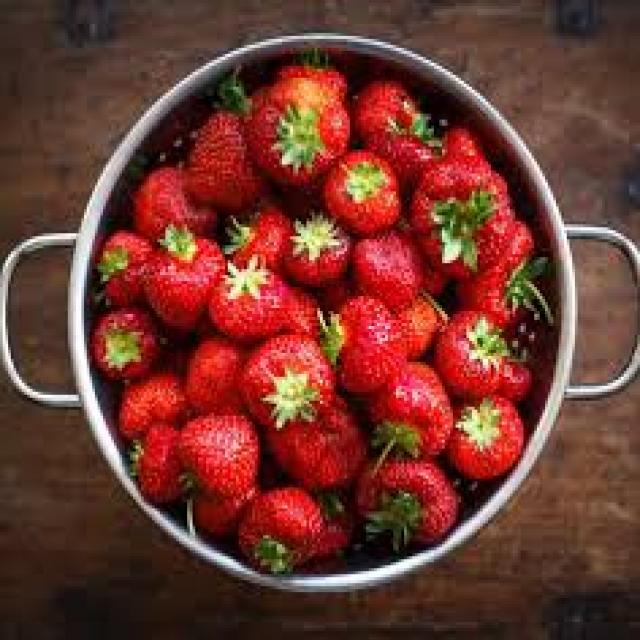strawberry: (357, 447, 463, 547), (423, 129, 495, 244), (167, 406, 255, 496), (240, 332, 330, 418), (251, 491, 332, 585), (375, 372, 456, 460), (148, 234, 225, 320), (183, 125, 261, 203), (91, 311, 166, 378), (330, 159, 399, 227)
